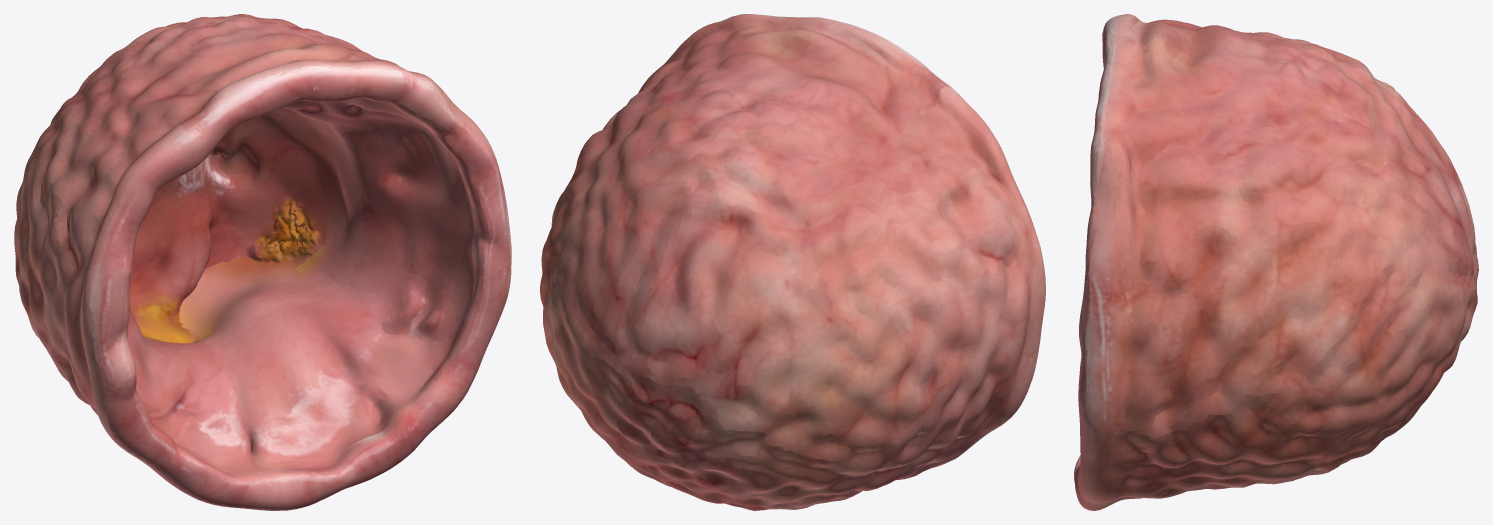
File: field.glb
3 views of the same model, side by side, from view 1: azimuth 30°, elevation 25°; view 2: azimuth 150°, elevation 25°; view 3: azimuth 270°, elevation 25° (orthographic). The views are drawn at different scales.
Visible parts, largest first — view 1: Lux3D_field_0; view 2: Lux3D_field_0; view 3: Lux3D_field_0.
Boxes of the visible parts, <box> form: Lux3D_field_0: <box>14,14,511,510</box>; Lux3D_field_0: <box>540,14,1045,510</box>; Lux3D_field_0: <box>1074,14,1478,510</box>.
Bounding box in the file's own units: 1 × 0.9986 × 0.8086.
1 material, 1 textured.
